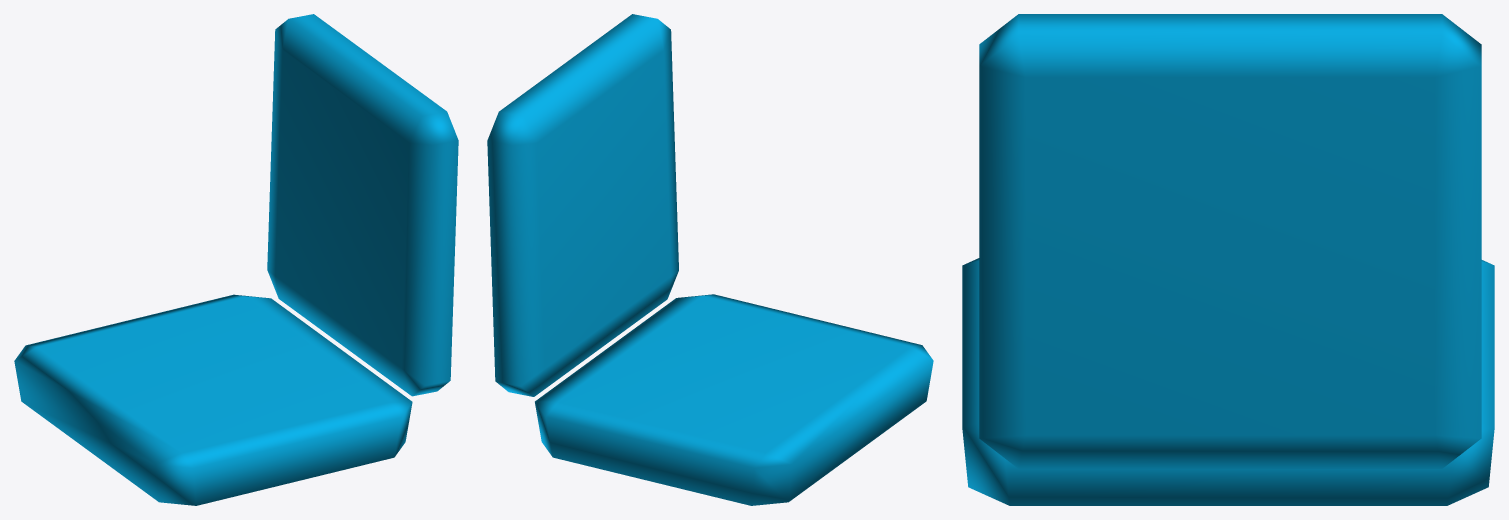
Rendered from Chair_02_Lod2.fbx.
3 views of the same model, side by side, from view 1: azimuth 30°, elevation 25°; view 2: azimuth 150°, elevation 25°; view 3: azimuth 270°, elevation 25° (orthographic). The views are drawn at different scales.
Parts seen in each view (by area): view 1: Chair_02_Lod2; view 2: Chair_02_Lod2; view 3: Chair_02_Lod2.
Part boxes in pixels (x1,y1,x2,y2): Chair_02_Lod2: [14, 14, 458, 505]; Chair_02_Lod2: [487, 14, 933, 505]; Chair_02_Lod2: [962, 14, 1494, 505].
Size of the model in its own units: 50.08 by 50.96 by 48.54.
